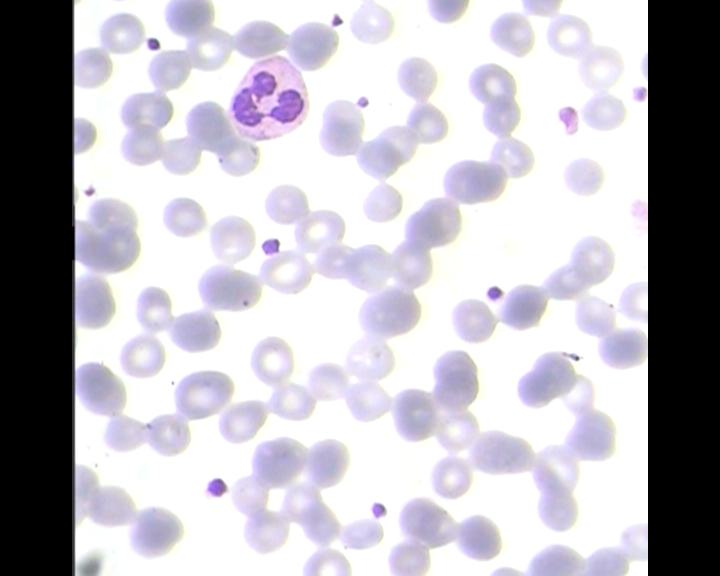neut: (223, 53, 309, 144)
